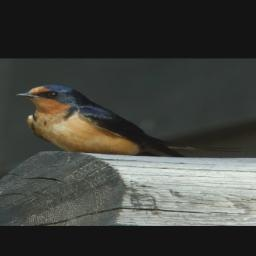Swallow: (15, 84, 248, 157)
